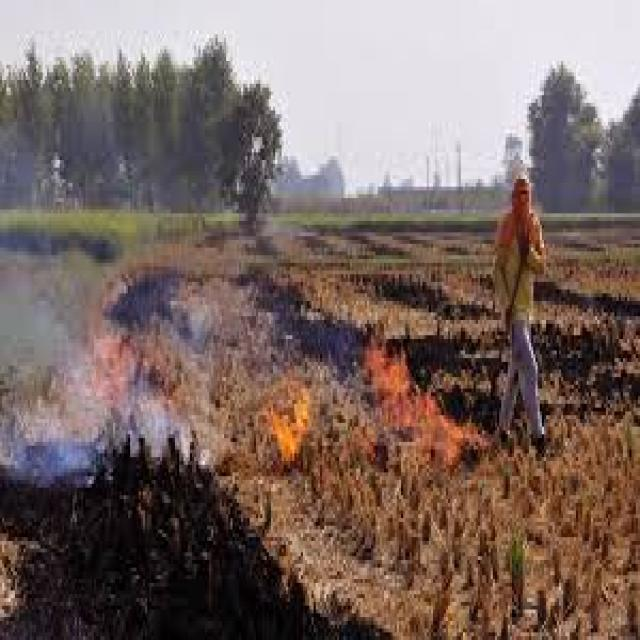Smoke: (0, 86, 225, 488)
